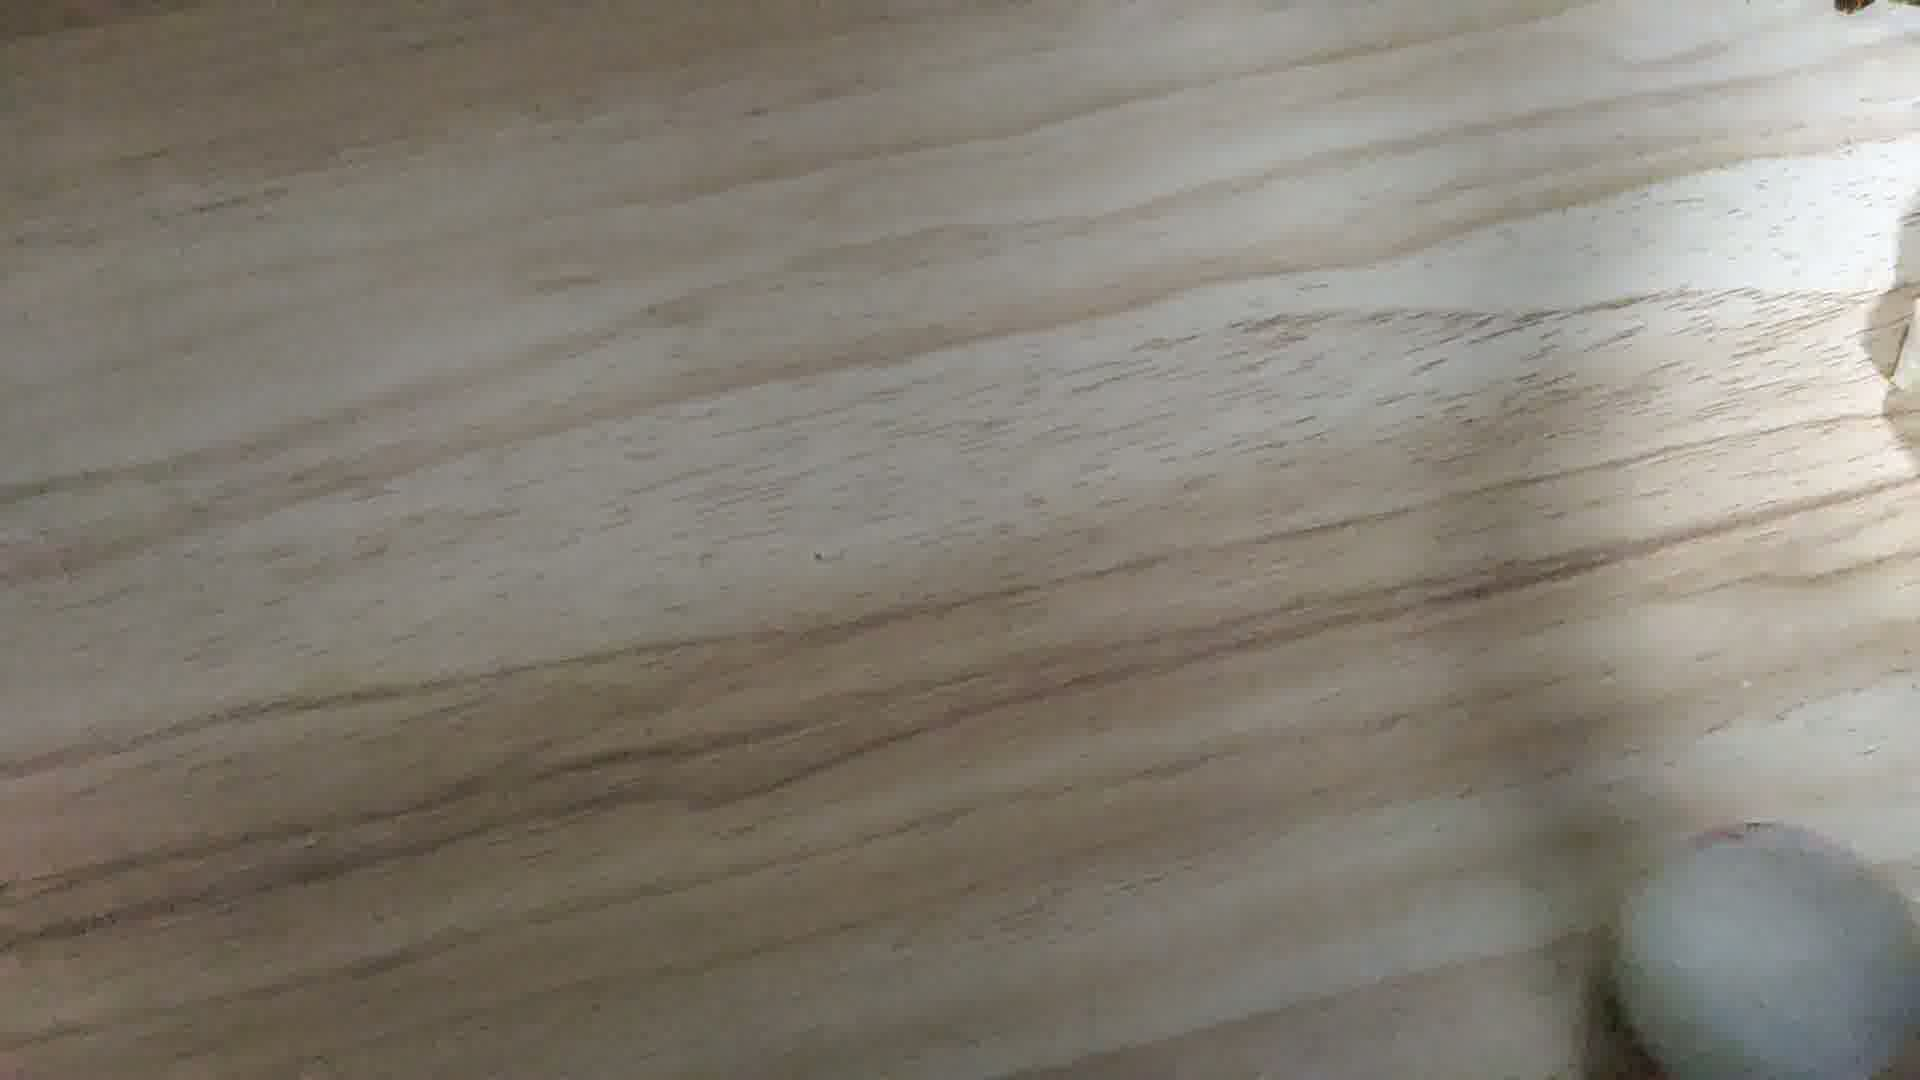Ball: (1611, 822, 1920, 1080)
